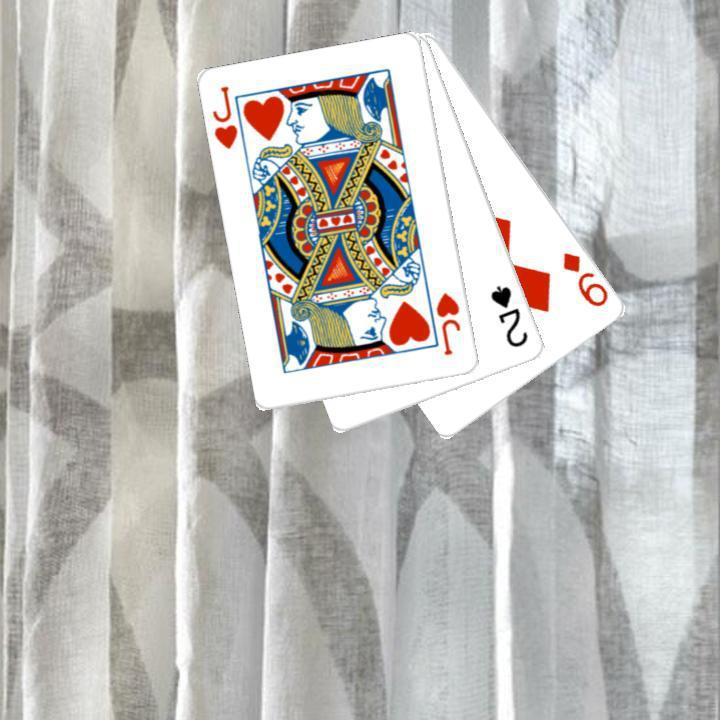2: (486, 281, 531, 350)
9: (558, 248, 611, 309)
J: (432, 288, 463, 358), (209, 82, 240, 151)
